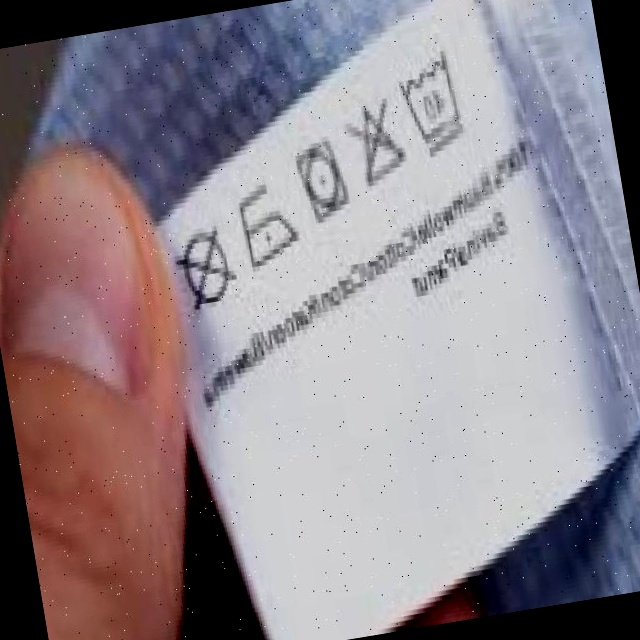40C: (393, 50, 479, 155)
DN_bleach: (340, 97, 415, 191)
DN_dry_clean: (168, 221, 245, 317)
iron_low: (229, 179, 304, 271)
tumble_dry_low: (290, 138, 356, 224)
